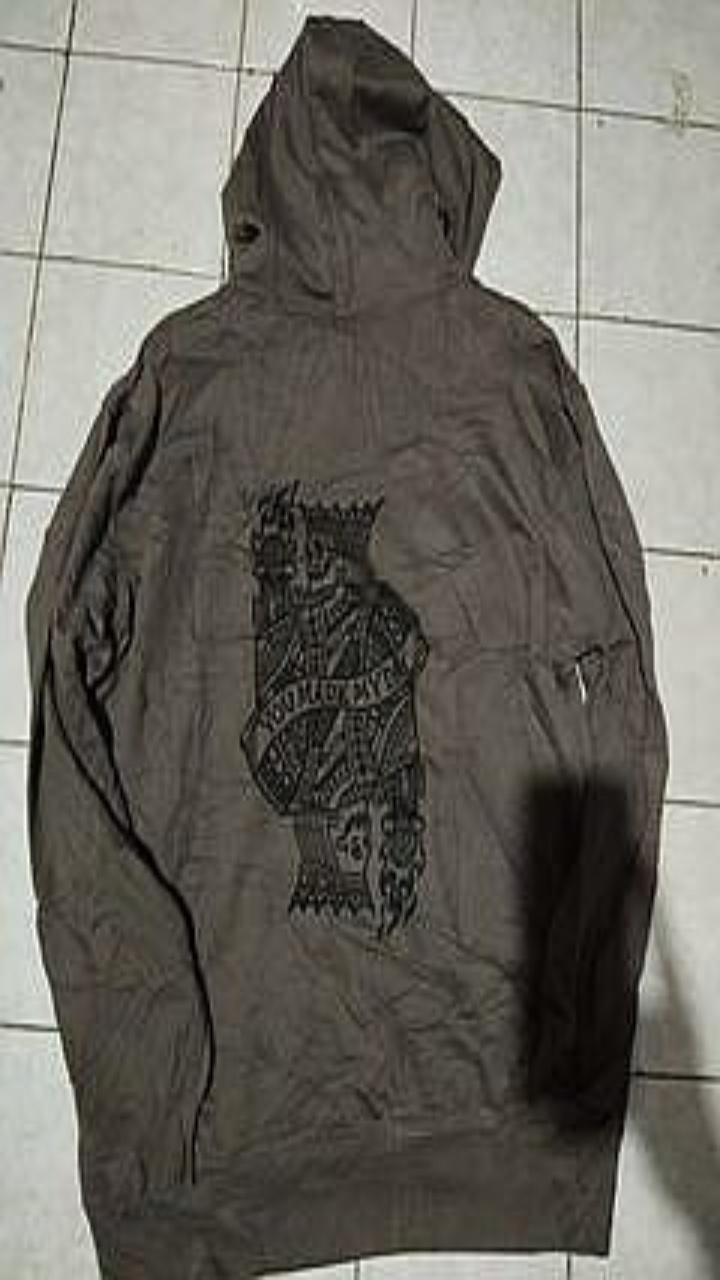Hoodie: (26, 15, 667, 1279)
